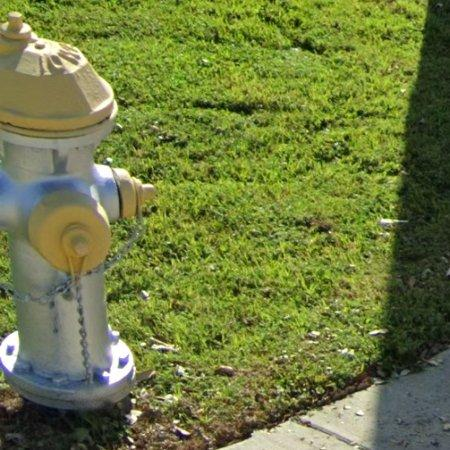a fire hydrant: (0, 12, 155, 411)
